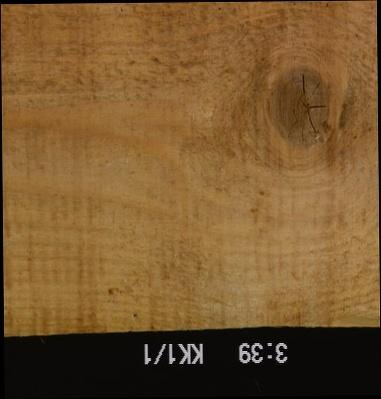sound_knot: (261, 64, 335, 152)
